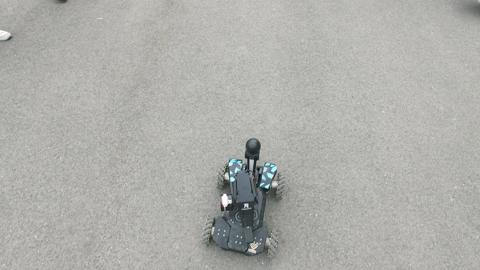chariot: (201, 137, 285, 258)
